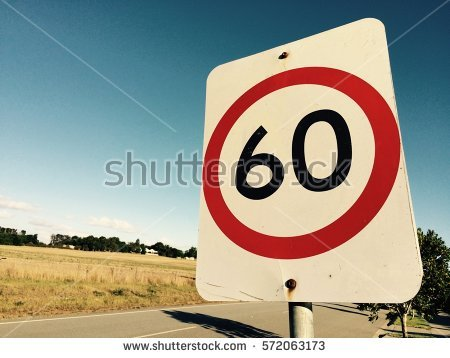Speed_limit_60km: (200, 67, 404, 262)
